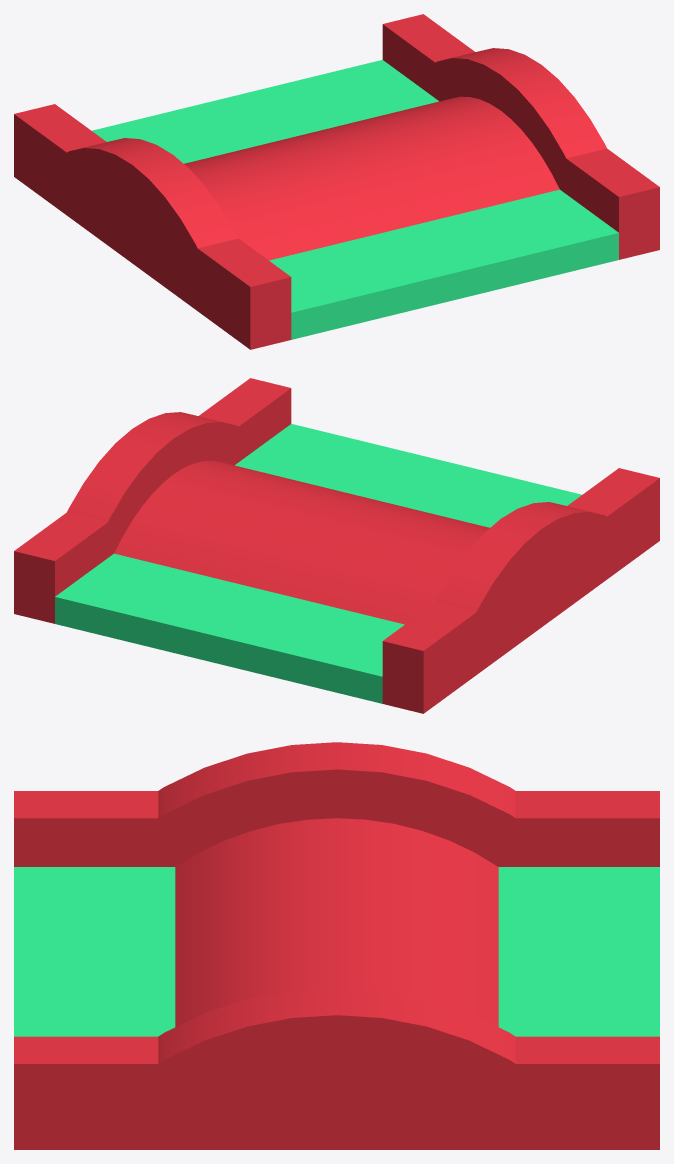
File: hillRound.fbx
3 renders of one model, top to bottom at view 1: azimuth 30°, elevation 25°; view 2: azimuth 150°, elevation 25°; view 3: azimuth 270°, elevation 25°, orthographic. The views are drawn at different scales.
Parts seen in each view (by area): view 1: hillRound; view 2: hillRound; view 3: hillRound.
Part boxes in pixels (x1,y1,x2,y2): hillRound: (14,14,659,349); hillRound: (14,378,659,713); hillRound: (14,742,659,1149).
Bounding box in the file's own units: 10 × 2.3 × 10.
